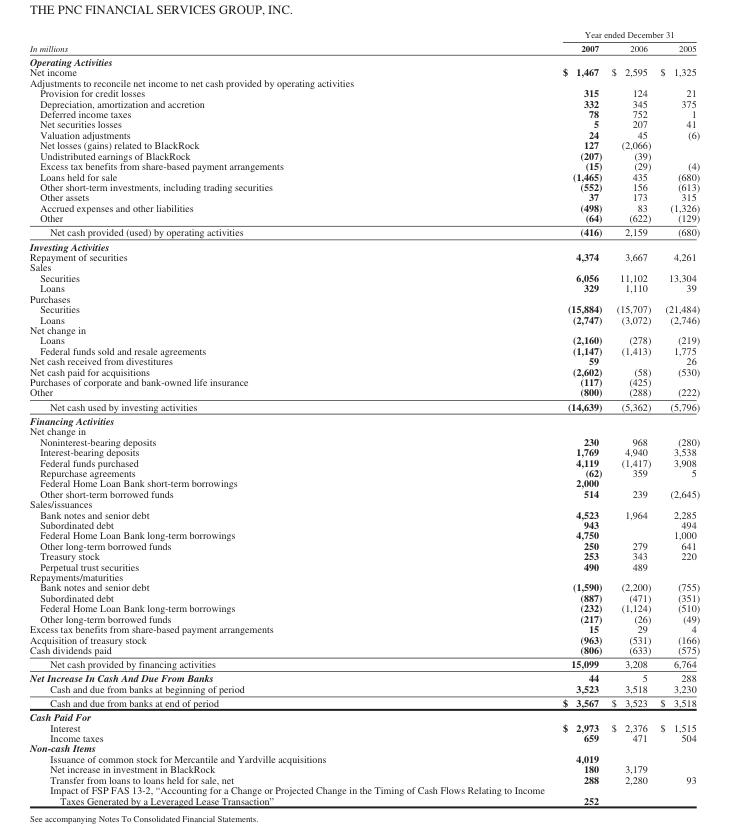table: (29, 28, 699, 805)
table column: (29, 28, 552, 805), (552, 28, 606, 805), (606, 28, 654, 805), (654, 28, 699, 805)
table column header: (29, 28, 699, 54)
table projected row header: (29, 238, 699, 251), (29, 54, 699, 66), (29, 413, 699, 425), (29, 709, 699, 721), (29, 261, 699, 272), (29, 742, 699, 753), (29, 77, 699, 87), (29, 293, 699, 303), (29, 324, 699, 334), (29, 425, 699, 435), (29, 498, 699, 508), (29, 571, 699, 581)
table row: (29, 784, 699, 805), (29, 398, 699, 413), (29, 40, 699, 54), (29, 224, 699, 238), (29, 656, 699, 670), (29, 695, 699, 709), (29, 238, 699, 251), (29, 670, 699, 683), (29, 28, 699, 40), (29, 54, 699, 66), (29, 212, 699, 224), (29, 386, 699, 398), (29, 413, 699, 425), (29, 644, 699, 656), (29, 683, 699, 695), (29, 709, 699, 721), (29, 66, 699, 77), (29, 97, 699, 108), (29, 118, 699, 129), (29, 149, 699, 160), (29, 170, 699, 181), (29, 201, 699, 212), (29, 261, 699, 272), (29, 282, 699, 293), (29, 313, 699, 324), (29, 344, 699, 355), (29, 365, 699, 376), (29, 435, 699, 446), (29, 456, 699, 467), (29, 487, 699, 498), (29, 508, 699, 519), (29, 529, 699, 540), (29, 560, 699, 571), (29, 581, 699, 592), (29, 612, 699, 623), (29, 633, 699, 644), (29, 721, 699, 732), (29, 742, 699, 753), (29, 773, 699, 784), (29, 77, 699, 87), (29, 87, 699, 97), (29, 108, 699, 118), (29, 129, 699, 139), (29, 139, 699, 149), (29, 160, 699, 170), (29, 181, 699, 191), (29, 191, 699, 201), (29, 251, 699, 261), (29, 272, 699, 282), (29, 293, 699, 303), (29, 303, 699, 313), (29, 324, 699, 334), (29, 334, 699, 344), (29, 355, 699, 365), (29, 376, 699, 386), (29, 425, 699, 435), (29, 446, 699, 456), (29, 467, 699, 477), (29, 477, 699, 487), (29, 498, 699, 508), (29, 519, 699, 529), (29, 540, 699, 550), (29, 550, 699, 560), (29, 571, 699, 581), (29, 592, 699, 602), (29, 602, 699, 612), (29, 623, 699, 633), (29, 732, 699, 742), (29, 753, 699, 763), (29, 763, 699, 773)
table spanning cell: (29, 28, 552, 54), (552, 28, 699, 40)
